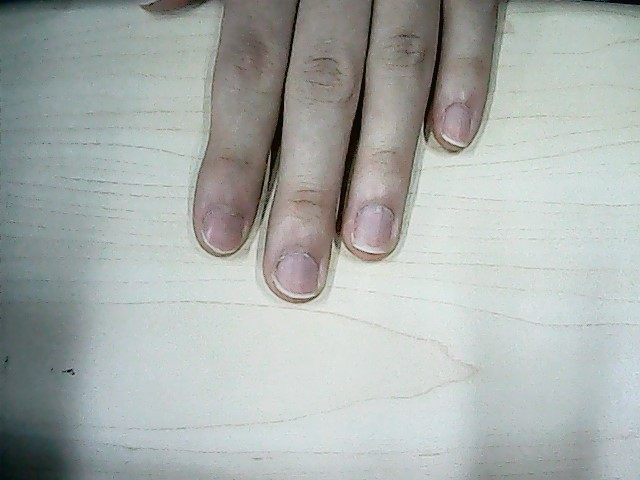nail: (356, 205, 394, 257), (279, 252, 320, 299), (204, 205, 242, 254), (447, 104, 469, 149)
